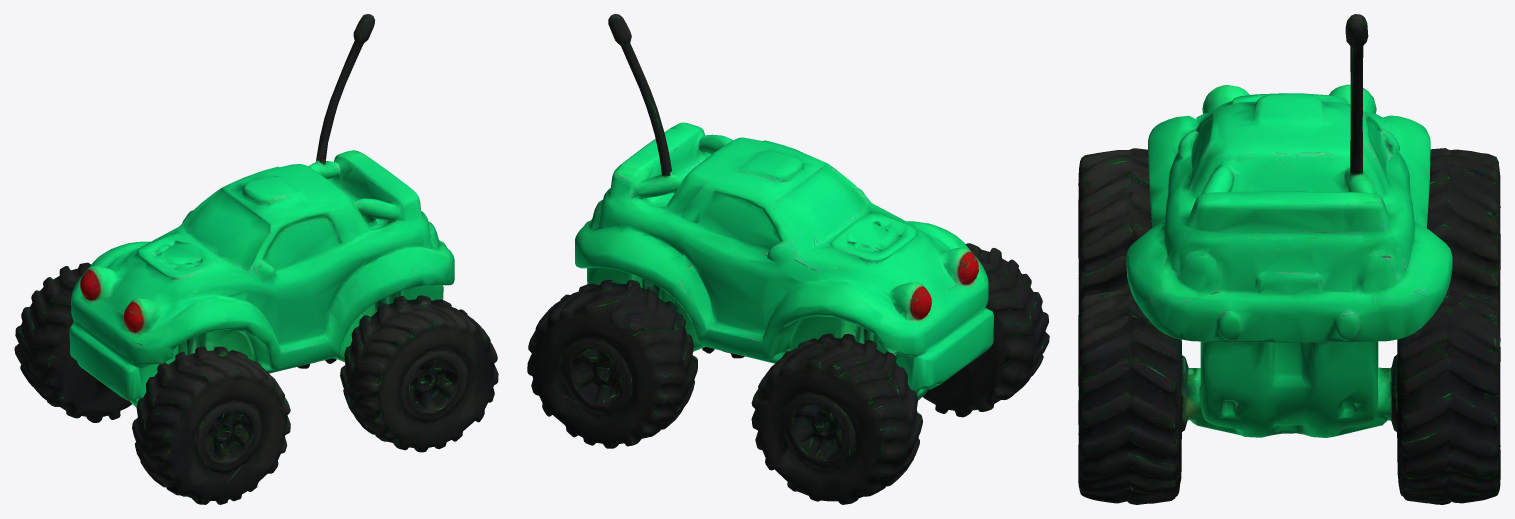
3 renders of one model, left to right at view 1: azimuth 30°, elevation 25°; view 2: azimuth 150°, elevation 25°; view 3: azimuth 270°, elevation 25°, orthographic. The views are drawn at different scales.
Visible parts, largest first — view 1: Mesh_0; view 2: Mesh_0; view 3: Mesh_0.
Boxes of the visible parts, <box> form: Mesh_0: <box>14,14,498,504</box>; Mesh_0: <box>527,14,1049,504</box>; Mesh_0: <box>1078,14,1500,504</box>.
Size of the model in its own units: 1.88 by 1.91 by 1.45.
Materials: 1 (1 with a texture image).
